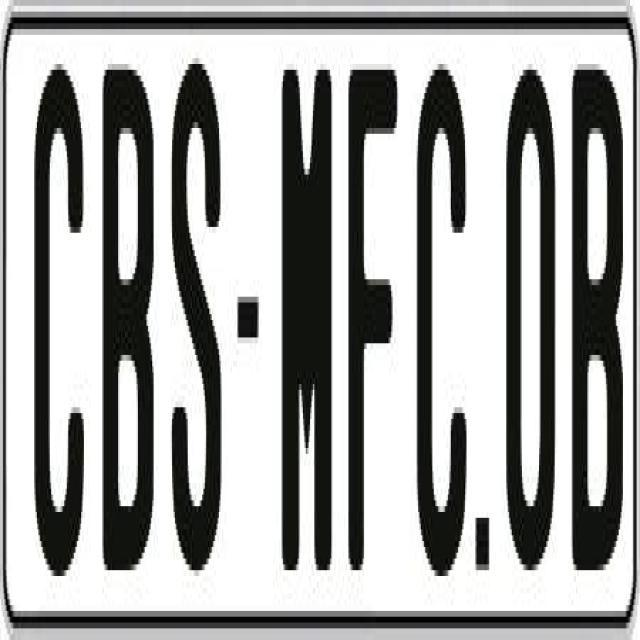0: (504, 58, 556, 588)
B: (102, 58, 155, 570), (568, 70, 614, 570)
C: (29, 58, 82, 599), (415, 58, 468, 564)
F: (346, 52, 394, 570)
M: (280, 58, 332, 594)
S: (169, 52, 218, 564)
